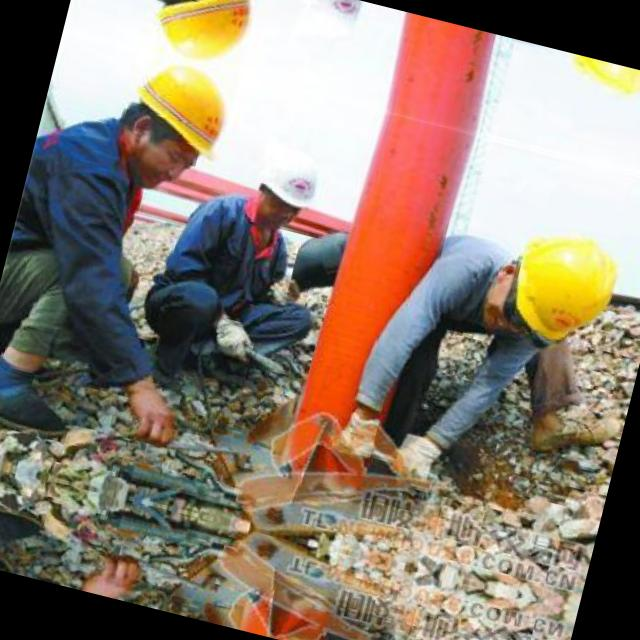helmet: (483, 204, 638, 362), (100, 46, 248, 208), (131, 0, 272, 77), (246, 136, 328, 234), (543, 48, 640, 118), (292, 0, 366, 46)
